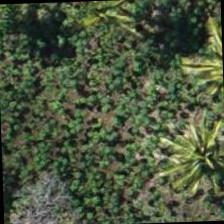Kelapa_Sawit: (160, 115, 223, 208), (55, 0, 148, 61)
